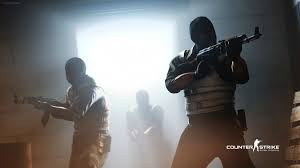Gun: (207, 30, 253, 69), (13, 93, 65, 114)
